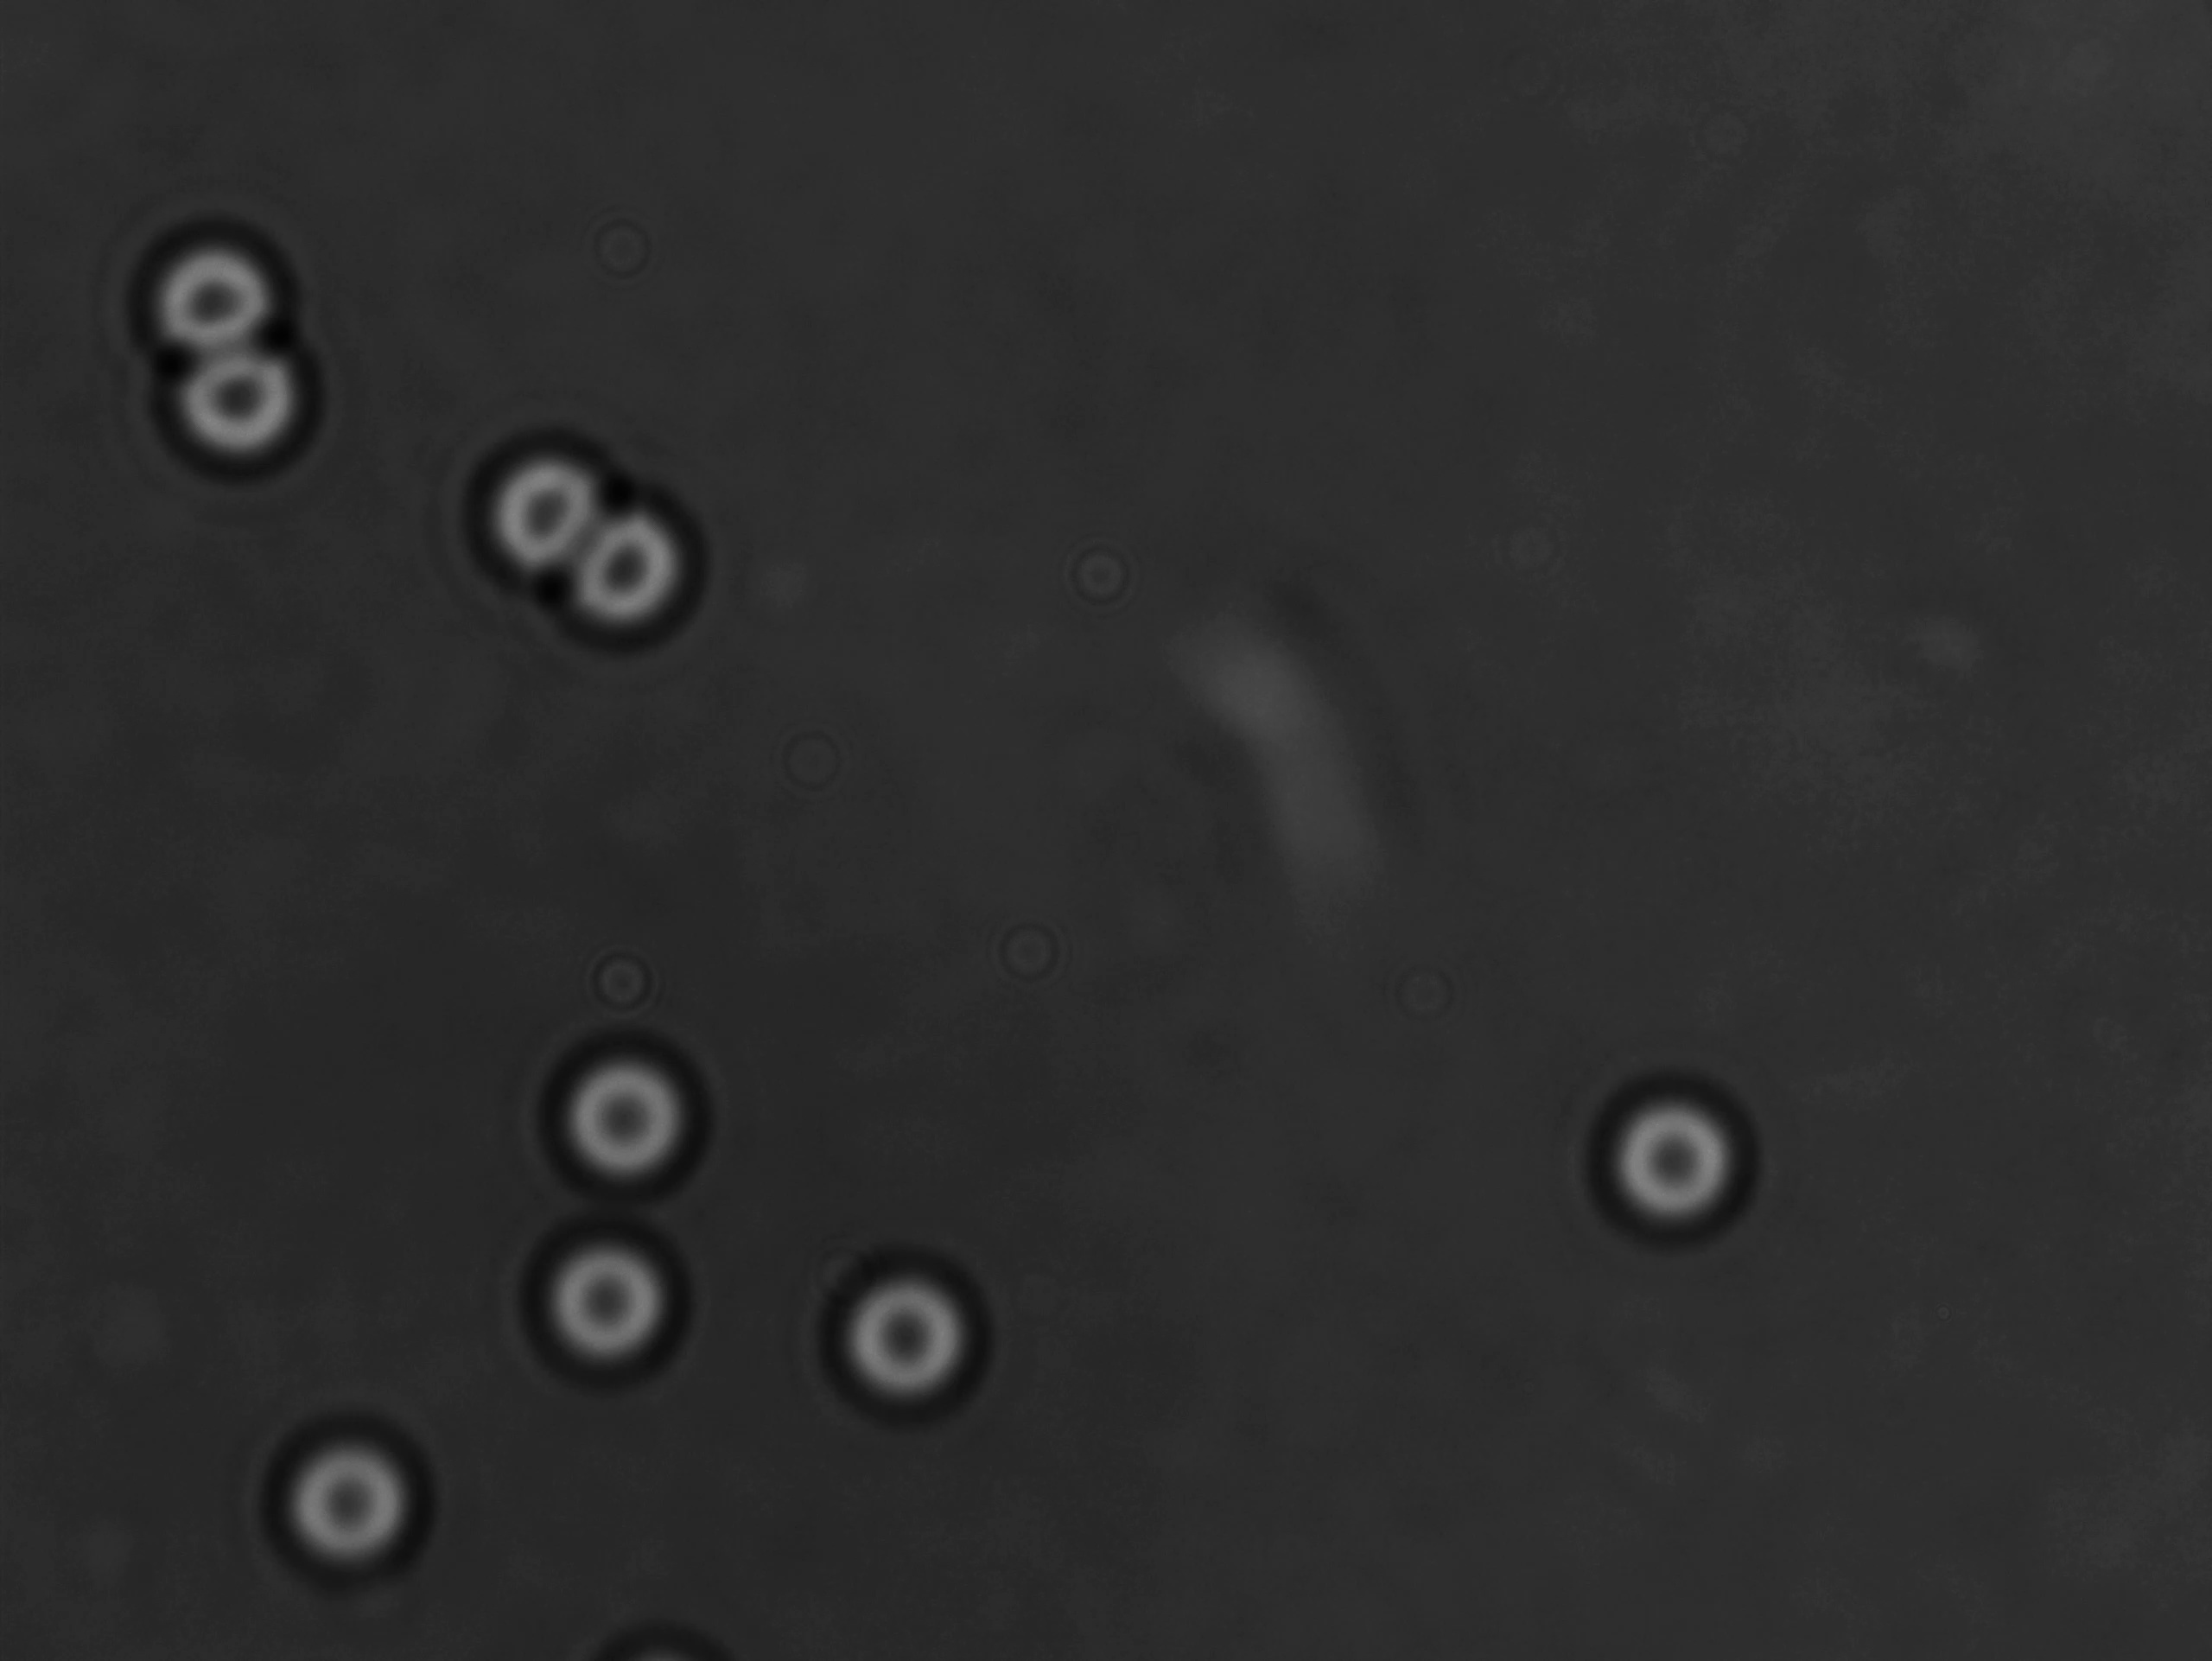depth:80: (239, 1382, 454, 1596), (797, 1249, 1021, 1452), (1568, 1054, 1783, 1260), (525, 1213, 712, 1392), (544, 1026, 731, 1204)
